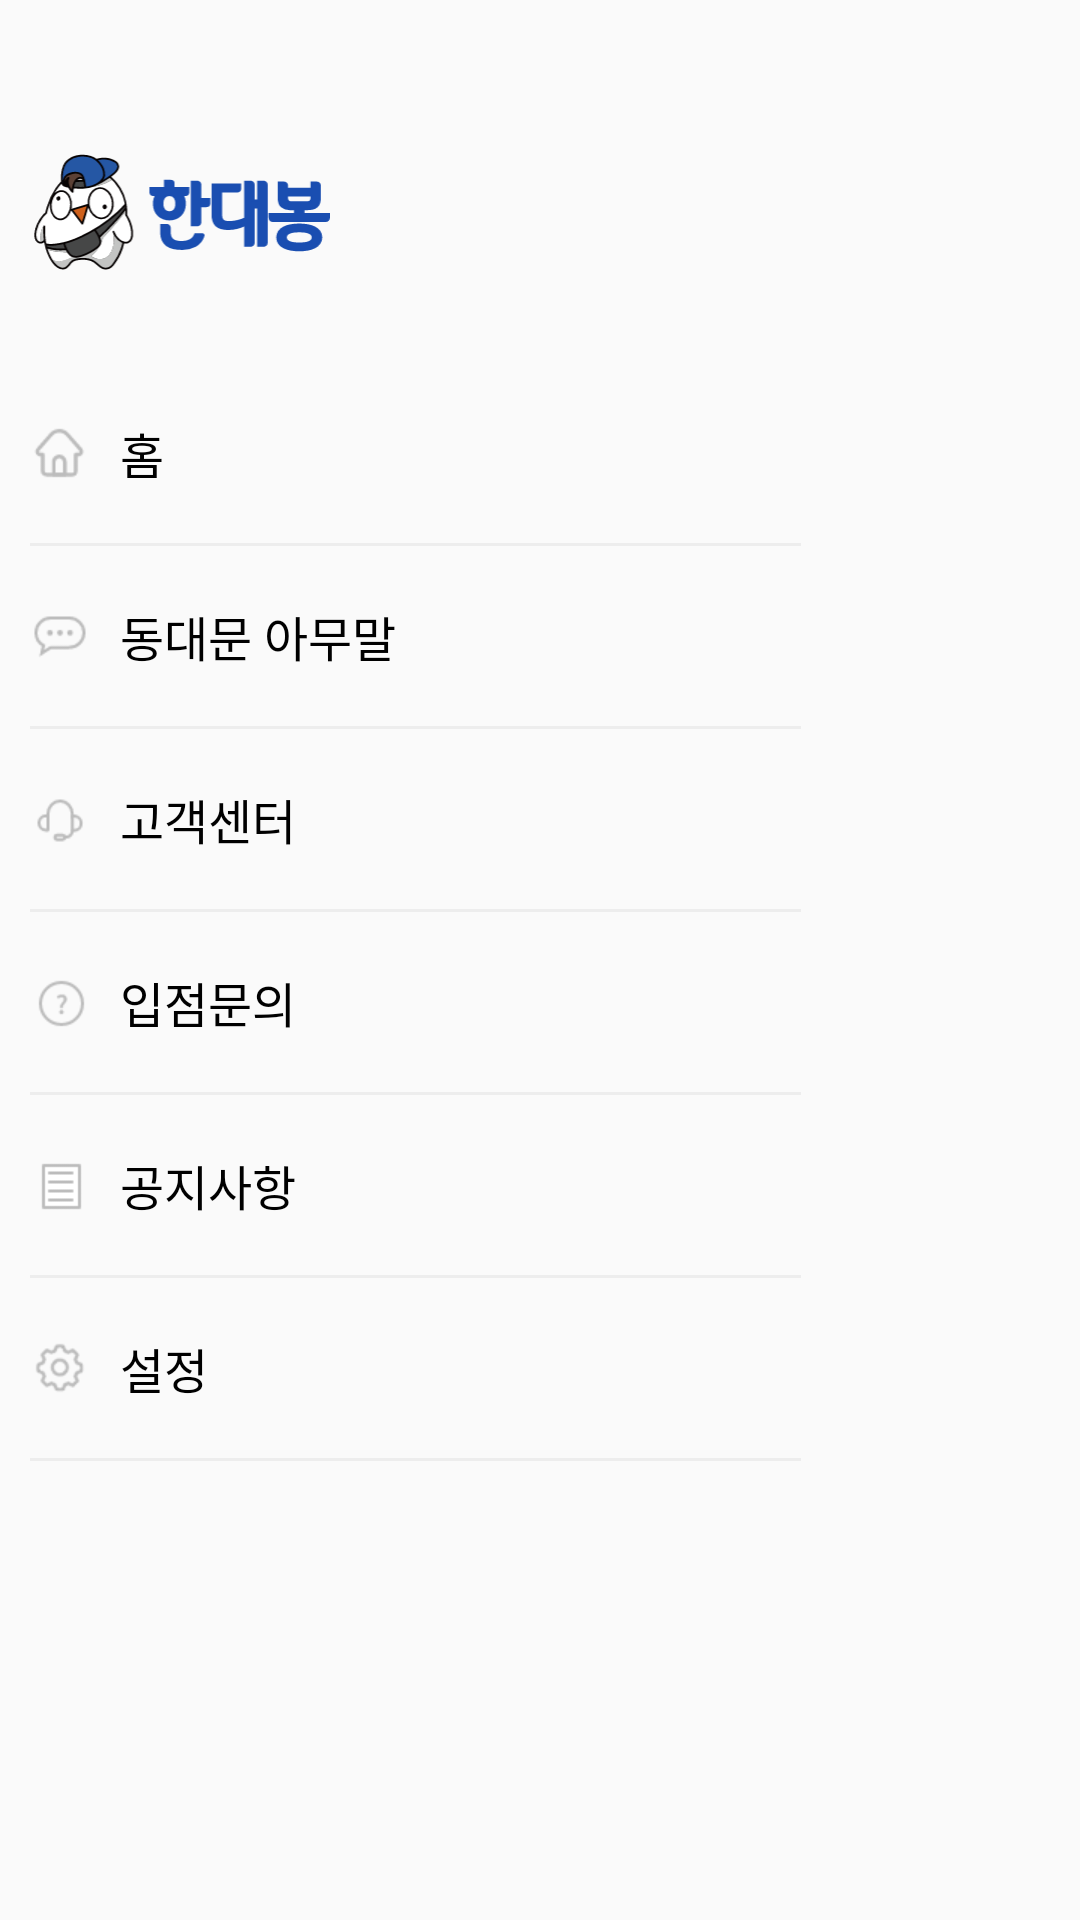

Screen size 1080 × 1920. Icon name, then its center in pixels as point (x, y):
navi chat: point (60, 636)
navi home: point (59, 453)
navi noti: point (61, 1186)
navi qa: point (61, 1003)
navi qacenter: point (60, 820)
navi setting: point (59, 1367)
